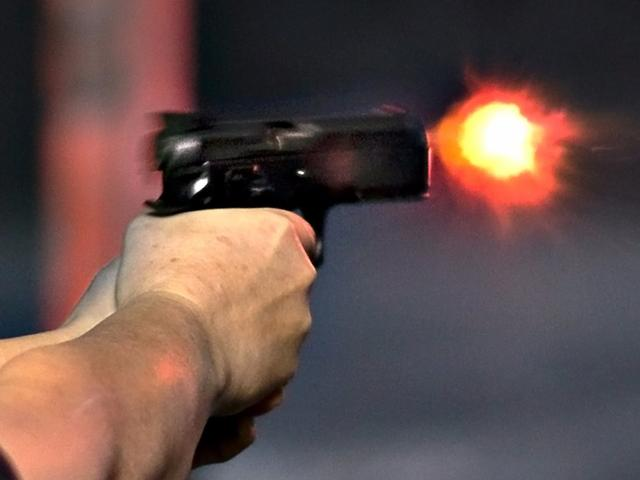pistol: (139, 106, 437, 360)
